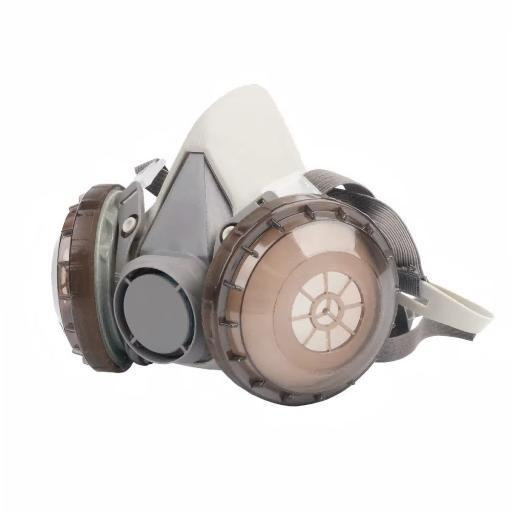mask: (34, 84, 504, 446)
